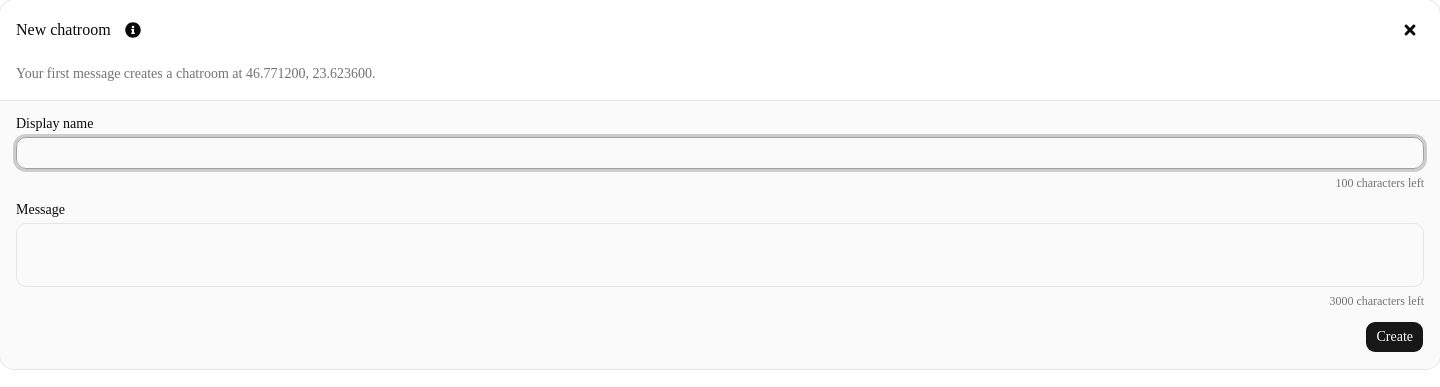
Test: NewRoomPopup submit › makes no request for an invalid form
Step 1. Click the button "Create" → (1395, 337), box [1366,321,1424,353]
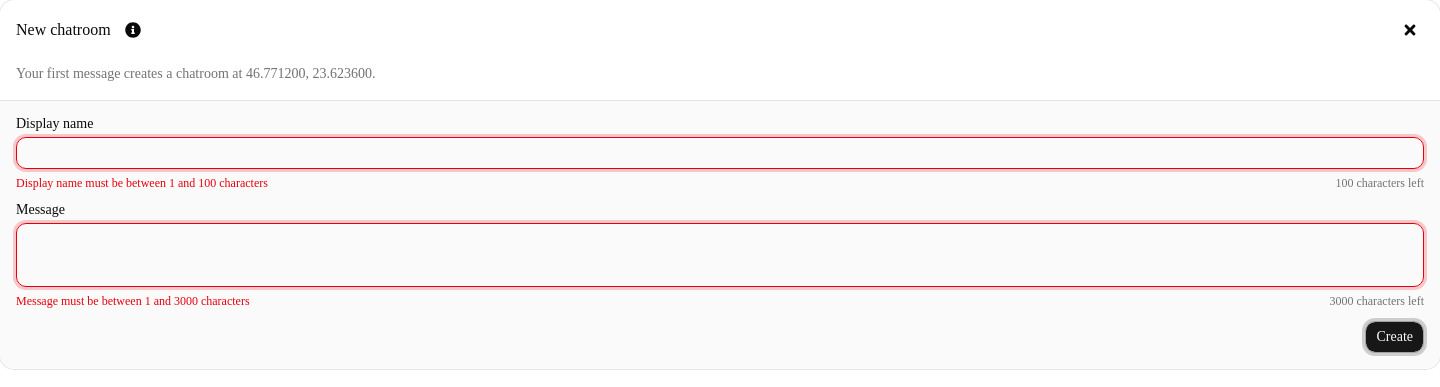
Check: the text "Message must be between 1 and 3000 characters" is shown, box [16,293,250,309]
